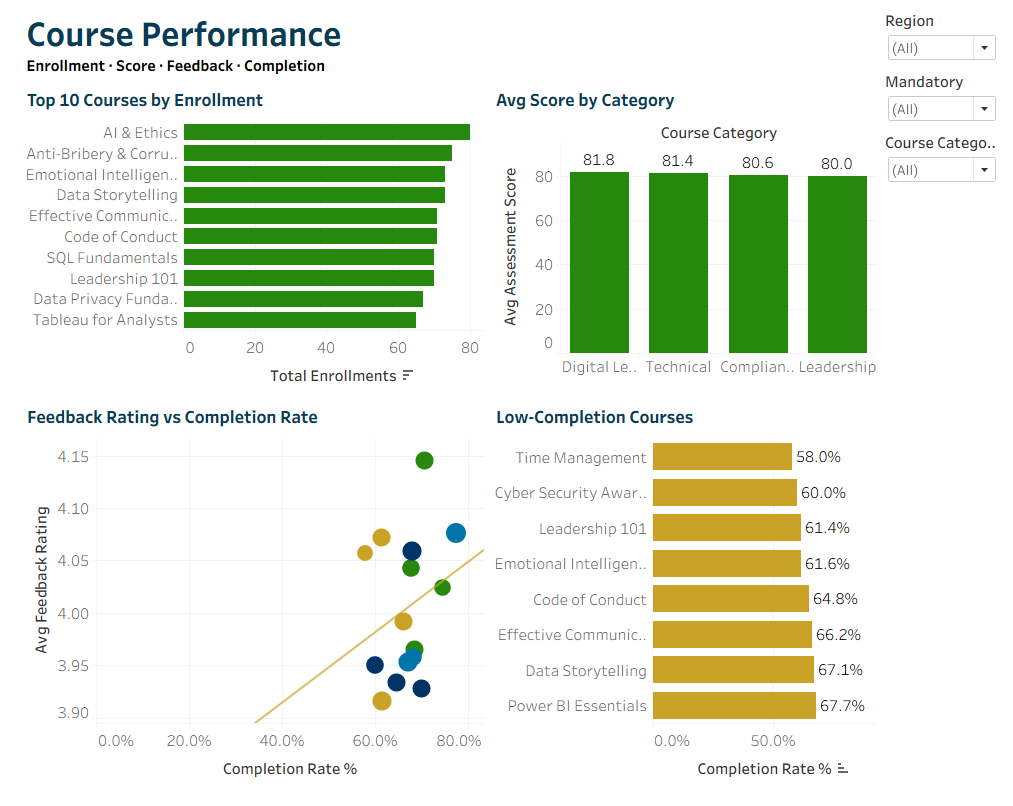

The dashboard page shown, as its layout file describes it:
{"tool":"tableau","page":{"name":"3 - Course Performance","canvas":[1000,800],"ordinal":2},"visuals":[{"type":"text","box":[8,8,862,74]},{"type":"filter","title":"Avg Score by Category","param":"[federated.15vr0xh1iu9k4k1dwr2az0vmulpq].[none:Region:nk]","box":[870,8,122,61]},{"type":"filter","title":"Avg Score by Category","param":"[federated.15vr0xh1iu9k4k1dwr2az0vmulpq].[none:Mandatory:nk]","box":[870,69,122,61]},{"type":"worksheet","title":"Top 10 Courses","mark":"Bar","rows":["Course_Name"],"cols":["Calculation_0669105712877570"],"box":[8,82,469,317.2]},{"type":"worksheet","title":"Avg Score by Category","mark":"Bar","rows":["Calculation_0669105713025028"],"cols":["Course_Category"],"box":[477,82,393,317.2]},{"type":"filter","title":"Avg Score by Category","param":"[federated.15vr0xh1iu9k4k1dwr2az0vmulpq].[none:Course_Category:nk]","box":[870,130,122,61]},{"type":"worksheet","title":"Feedback vs Completion","mark":"Circle","rows":["Calculation_0669105713094661"],"cols":["Calculation_0669105712525312"],"box":[8,399.2,469,392.8]},{"type":"worksheet","title":"Low-Completion Courses","mark":"Bar","rows":["Course_Name"],"cols":["Calculation_0669105712525312"],"box":[477,399.2,393,392.8]}]}

Visuals, with their boxes in screenshot pixels (x1, y1, x2, y2), scaled from the page's 1000x800 canvas onto the 1013x806 screenshot:
text: {"x1": 8, "y1": 8, "x2": 881, "y2": 83}
"Avg Score by Category" filter: {"x1": 881, "y1": 8, "x2": 1005, "y2": 70}
"Avg Score by Category" filter: {"x1": 881, "y1": 70, "x2": 1005, "y2": 131}
"Top 10 Courses" worksheet (Bar marks): {"x1": 8, "y1": 83, "x2": 483, "y2": 402}
"Avg Score by Category" worksheet (Bar marks): {"x1": 483, "y1": 83, "x2": 881, "y2": 402}
"Avg Score by Category" filter: {"x1": 881, "y1": 131, "x2": 1005, "y2": 192}
"Feedback vs Completion" worksheet (Circle marks): {"x1": 8, "y1": 402, "x2": 483, "y2": 798}
"Low-Completion Courses" worksheet (Bar marks): {"x1": 483, "y1": 402, "x2": 881, "y2": 798}
